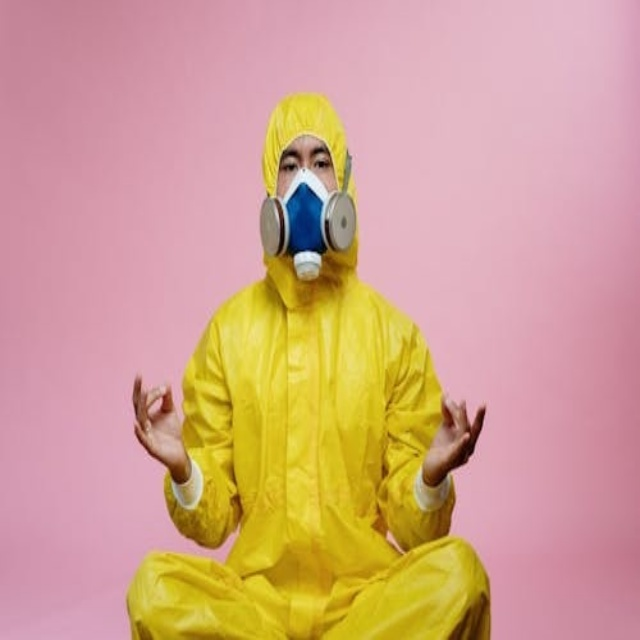Mascara: (261, 163, 354, 274)
Sin_gafas: (275, 146, 332, 173)
Sin_guantes: (422, 390, 486, 488), (132, 372, 189, 477)
